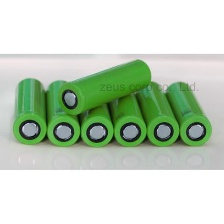battery: (56, 56, 155, 118), (164, 80, 214, 150), (134, 77, 182, 148), (103, 81, 149, 151), (43, 77, 83, 152), (77, 77, 116, 151), (11, 76, 47, 146)
